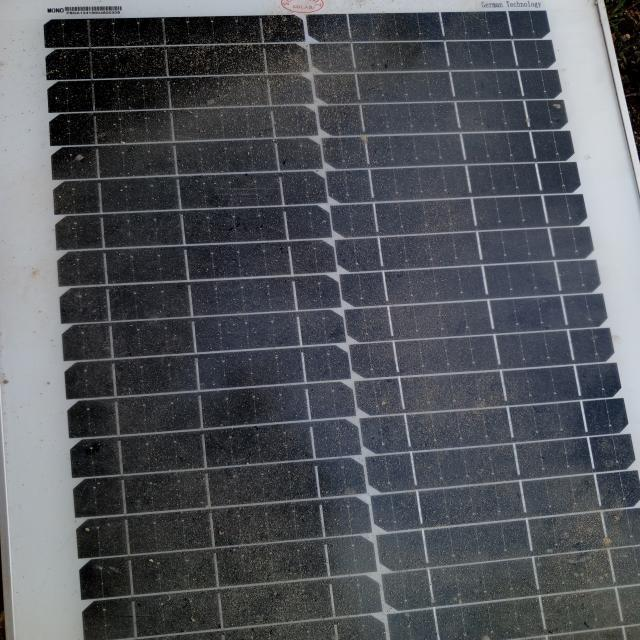Anomaly Solar Panel: (15, 10, 633, 638)
Surface Contaminant: (37, 23, 592, 639)
